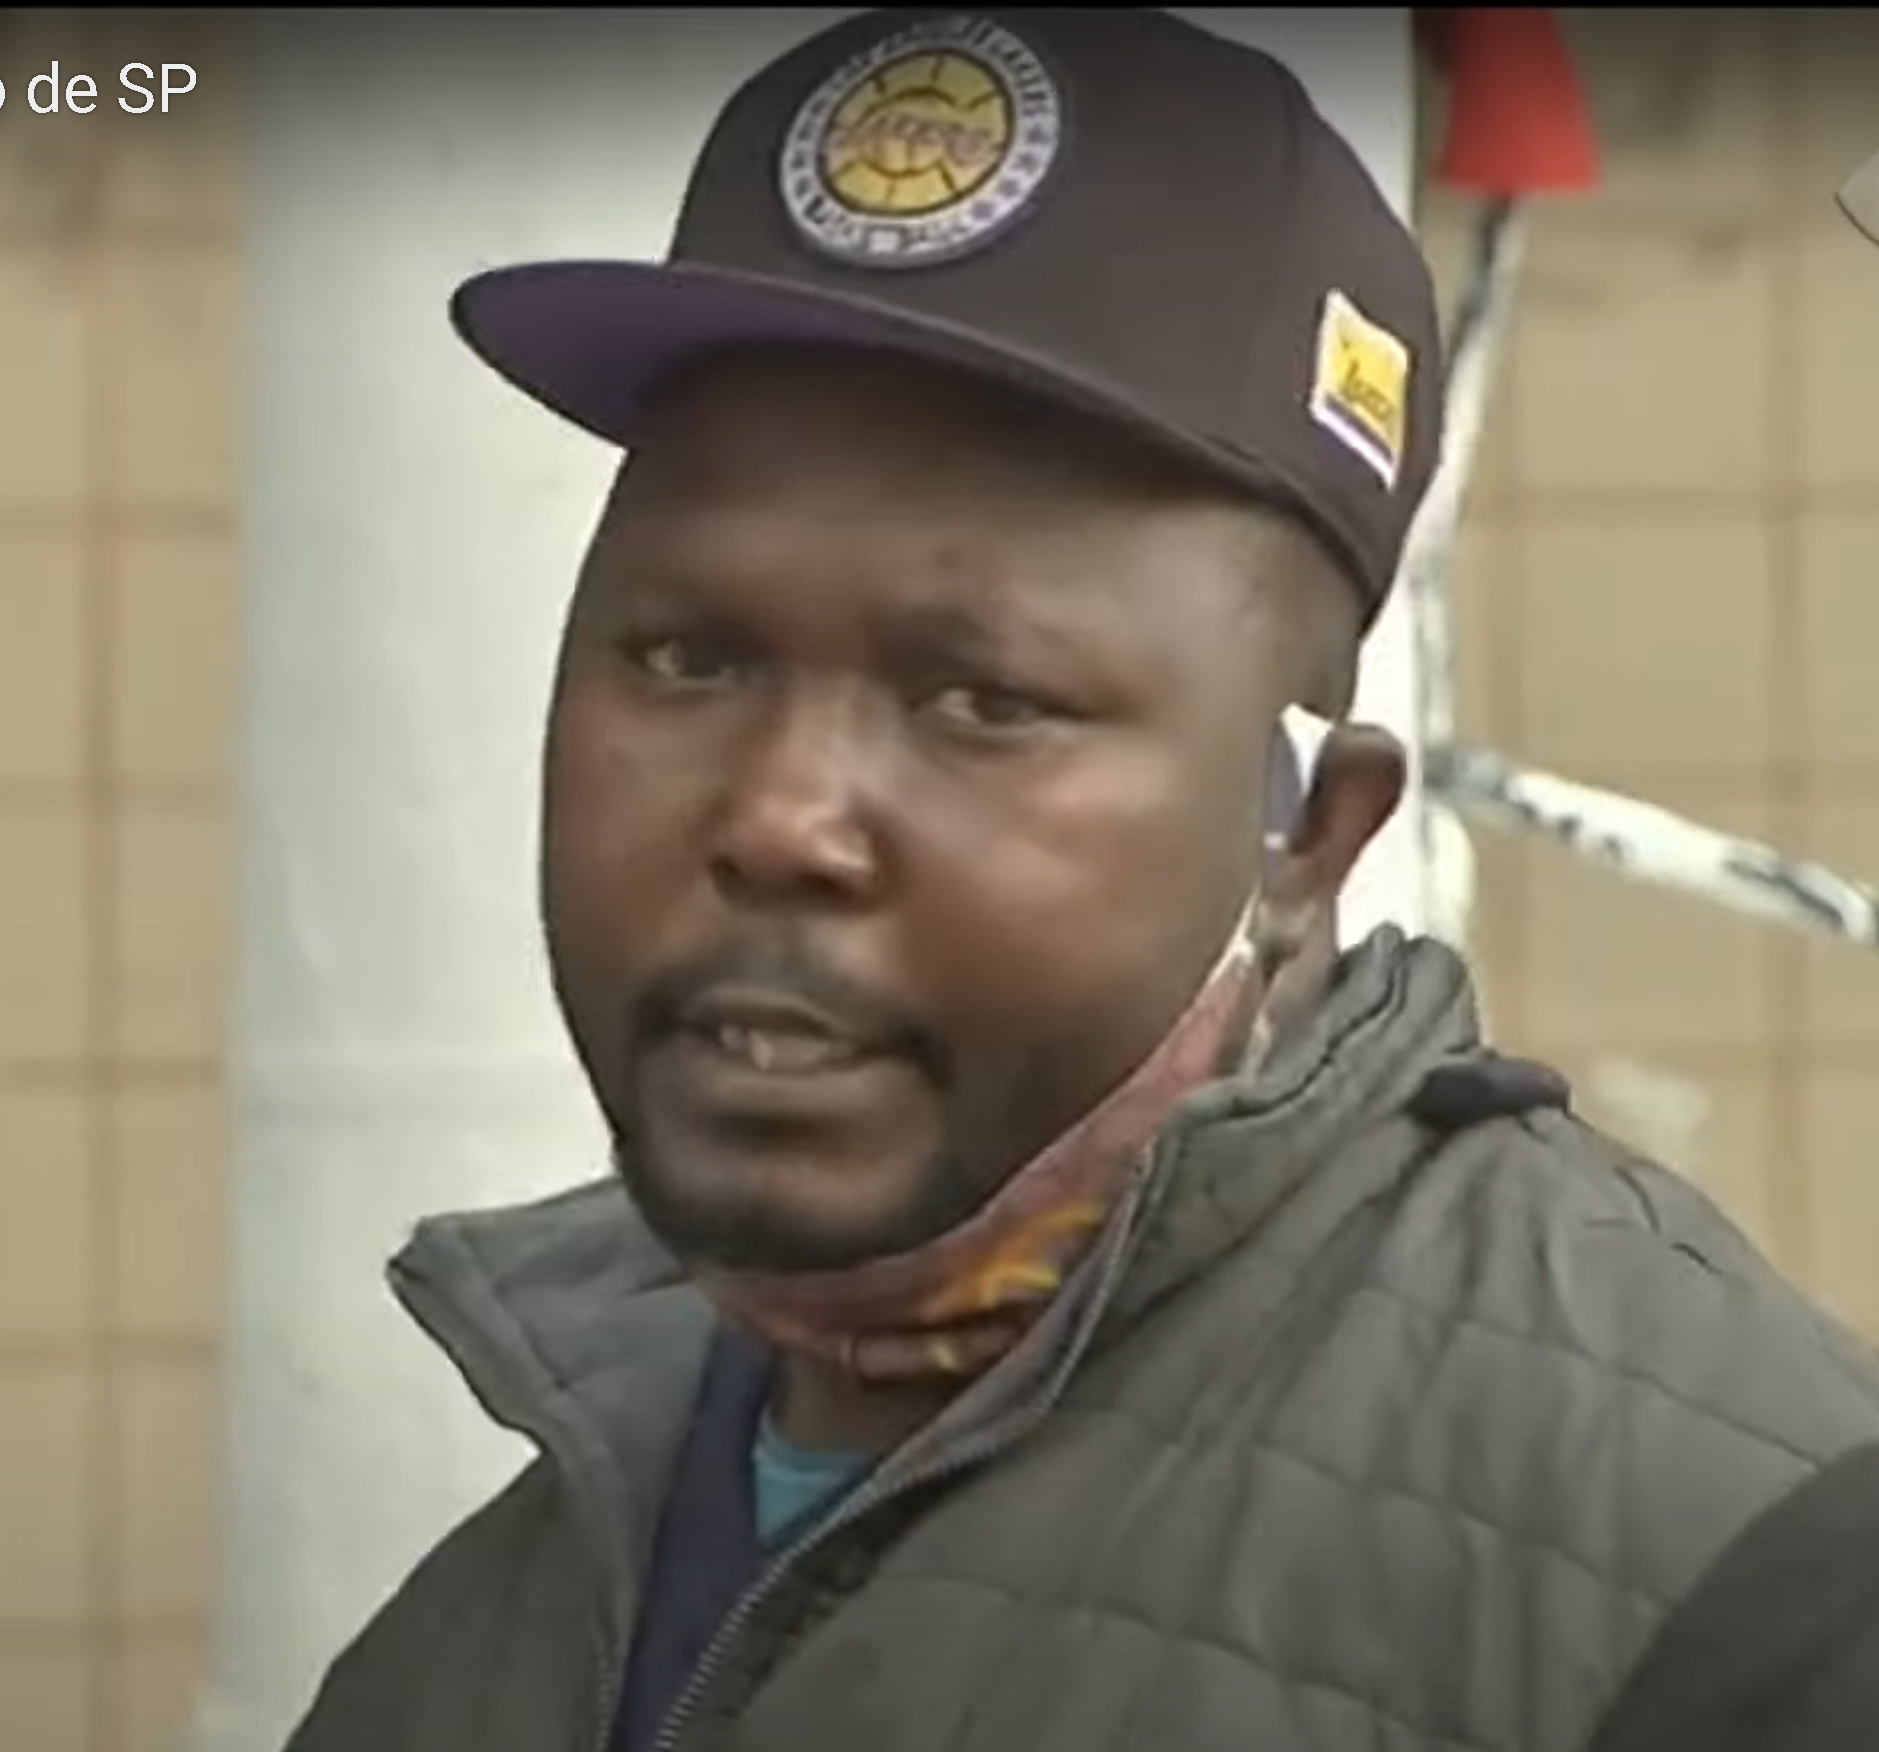mask_weared_incorrect: (508, 501, 1396, 1394)
